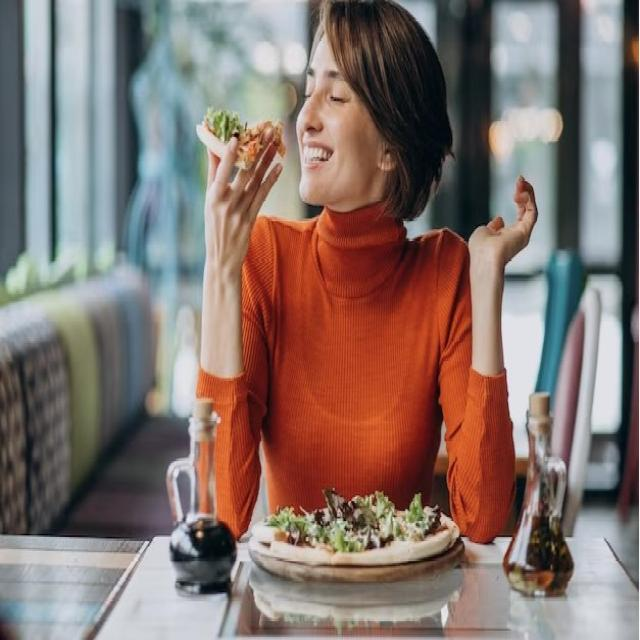eating-person: (167, 0, 580, 640)
